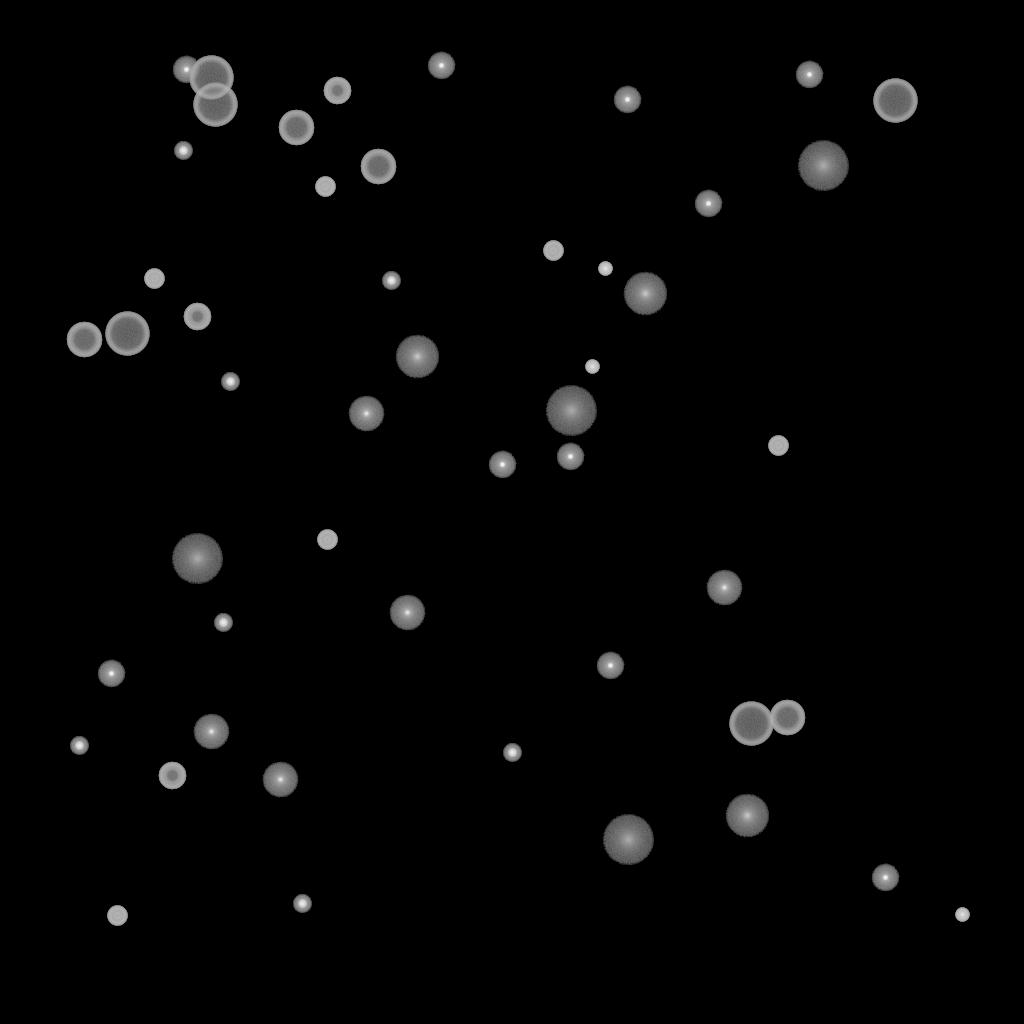depth:-10: (694, 190, 722, 218), (871, 864, 899, 892), (613, 86, 641, 114), (488, 451, 516, 479), (427, 52, 455, 80), (172, 56, 200, 84), (795, 61, 823, 89), (556, 443, 584, 471), (596, 652, 624, 680), (97, 660, 125, 688)
depth:-20: (293, 895, 311, 913), (70, 737, 88, 755), (221, 373, 239, 391), (503, 744, 521, 762), (382, 272, 400, 290), (174, 142, 192, 160), (214, 614, 232, 632)
depth:-30: (585, 360, 599, 374), (955, 908, 969, 922), (598, 262, 612, 276)
depth:-40: (107, 906, 127, 926), (768, 436, 788, 456), (315, 177, 335, 197), (317, 530, 337, 550), (144, 269, 164, 289), (543, 241, 563, 261)
depth:-50: (158, 762, 186, 790), (183, 303, 211, 331), (323, 77, 351, 105)
depth:-60: (769, 700, 805, 736), (278, 110, 314, 146), (360, 149, 396, 185), (66, 322, 102, 358)
depth:-70: (873, 79, 917, 123), (105, 312, 149, 356), (193, 83, 237, 127), (189, 56, 233, 100), (729, 702, 773, 746)
depth:0: (389, 595, 425, 631), (706, 570, 742, 606), (348, 396, 384, 432), (193, 714, 229, 750), (262, 762, 298, 798)
depth:10: (395, 335, 439, 379), (725, 794, 769, 838), (623, 272, 667, 316)
depth:20: (171, 534, 223, 584), (602, 815, 654, 865), (545, 386, 597, 436), (797, 141, 849, 191)
